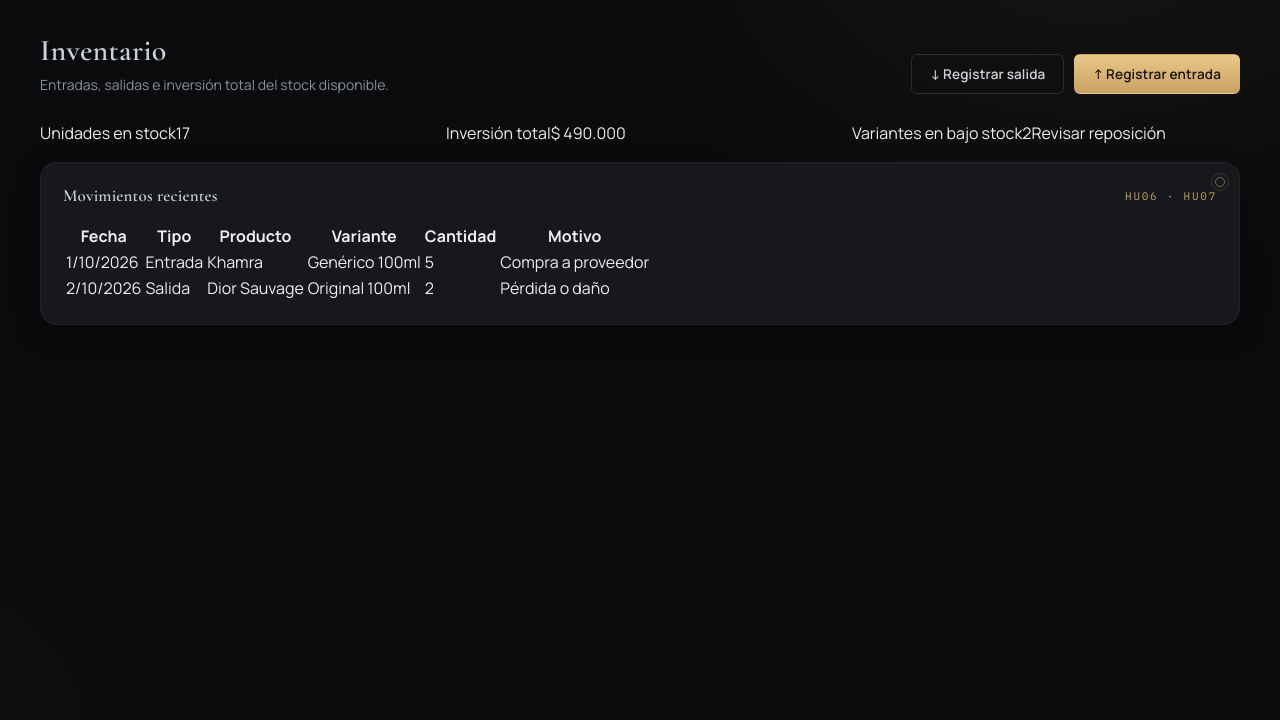
Inventario: formulario de movimientos › registra una salida usando la esencia y variante elegidas
The width and height of the screenshot is (1280, 720).
Later steps or results of the test are not shown.
Expected: the text "Unidades en stock" is shown, [40, 122, 176, 144]
Click the button "↓ Registrar salida". click: (988, 74)
box: [912, 54, 1064, 94]
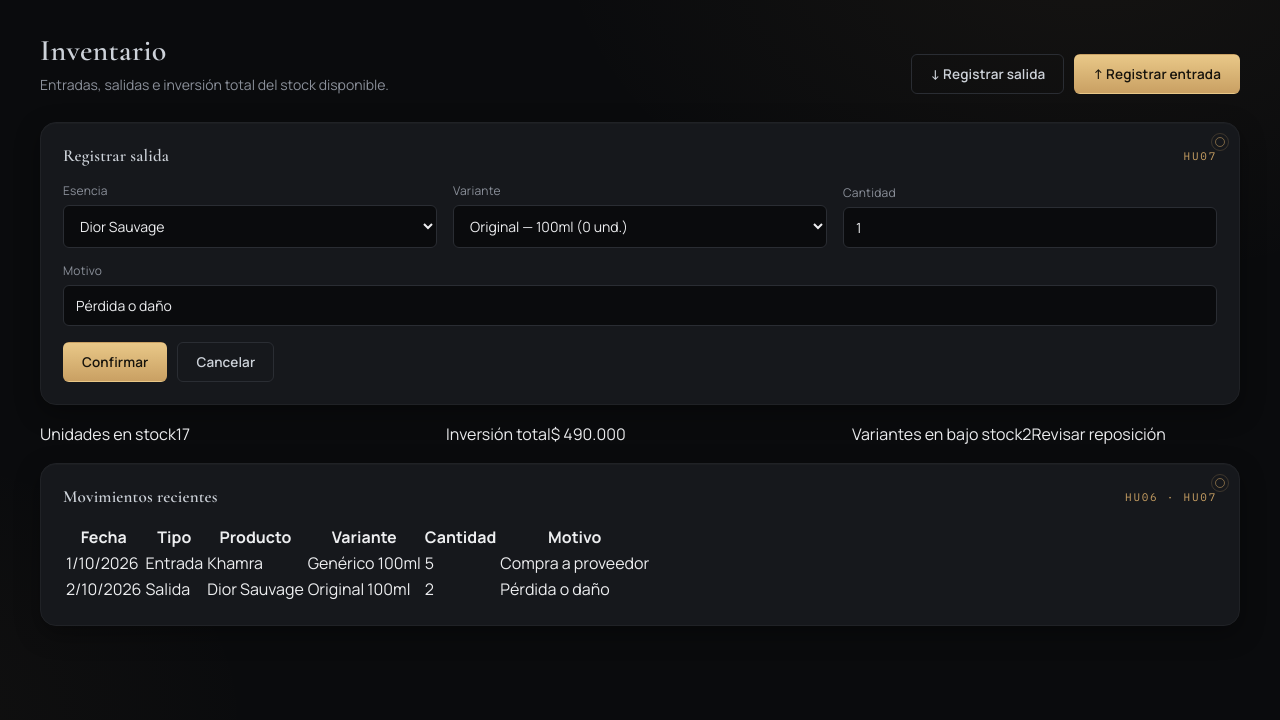
Select "Khamra" in the dropdown below "Esencia". click: (250, 226)
box: [63, 205, 437, 248]
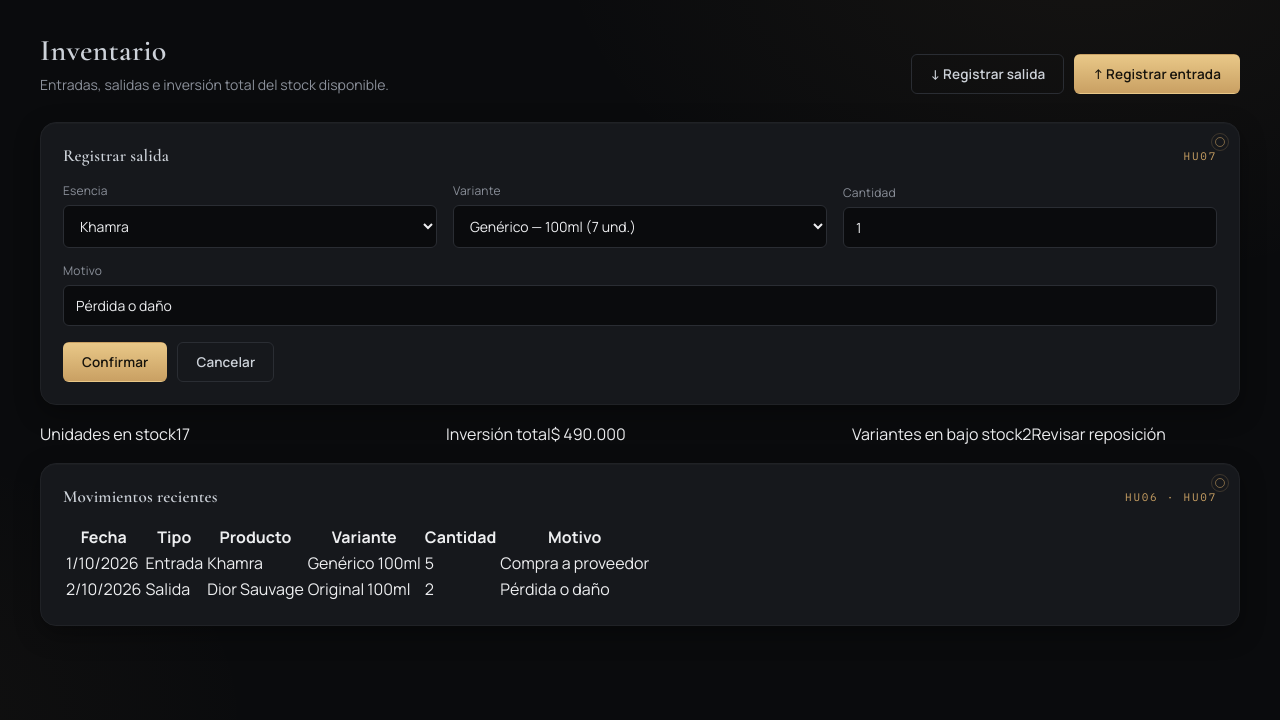
Expected: the 2nd dropdown shows "Genérico — 100ml (7 und.)", [453, 205, 827, 248]
